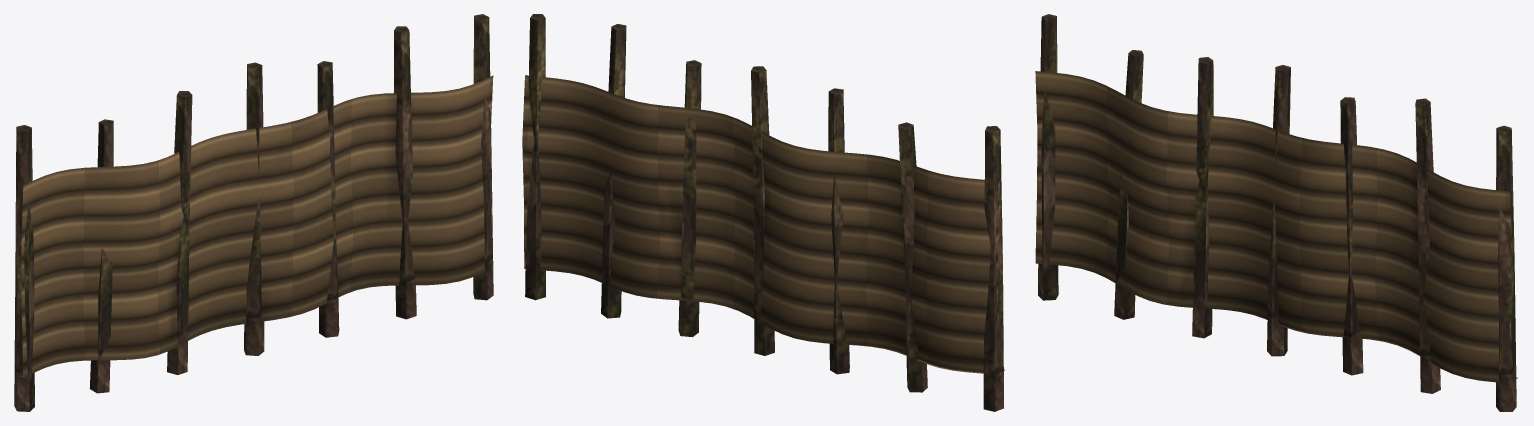
Rendered from fence_wattle.glb.
3 views of the same model, side by side, from view 1: azimuth 30°, elevation 25°; view 2: azimuth 150°, elevation 25°; view 3: azimuth 330°, elevation 25° (orthographic).
Parts seen in each view (by area): view 1: fence_wattle; view 2: fence_wattle; view 3: fence_wattle.
Boxes of the visible parts, bbox=[...] form: fence_wattle: bbox=[14, 14, 493, 411]; fence_wattle: bbox=[522, 14, 1004, 411]; fence_wattle: bbox=[1035, 14, 1517, 411].
Bounding box in the file's own units: 2.01 × 1.17 × 0.1442.
2 materials, 2 textured.
